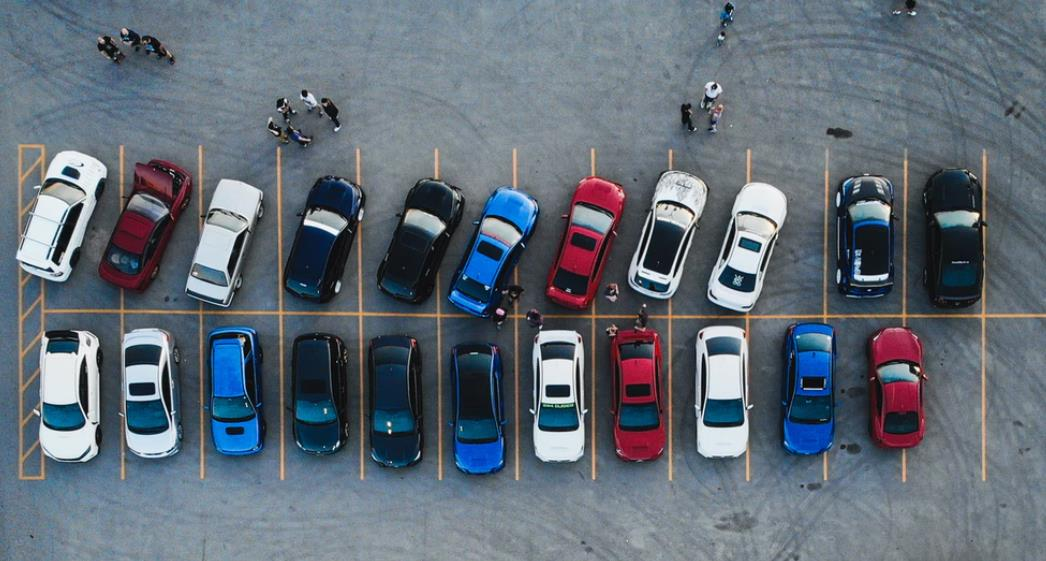car: (92, 158, 194, 292), (10, 147, 106, 287), (447, 184, 543, 319), (373, 176, 466, 310), (540, 172, 627, 315), (702, 179, 791, 317), (281, 172, 367, 310), (625, 167, 713, 301), (181, 176, 267, 311), (25, 326, 109, 464), (354, 330, 430, 473), (116, 328, 192, 464), (920, 165, 988, 313), (197, 324, 270, 459), (686, 323, 756, 463), (774, 319, 845, 456), (603, 323, 671, 463), (445, 338, 512, 478), (283, 327, 354, 458), (863, 322, 930, 457), (833, 167, 898, 304), (529, 325, 589, 467)
